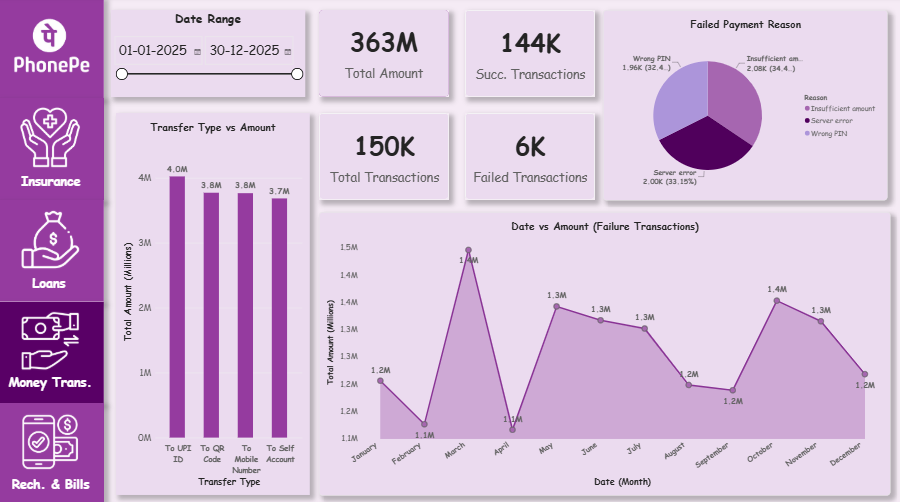

Layout of this report page (visuals, bound fields, positions):
{"tool":"powerbi","page":{"name":"Money Transfer","canvas":[1920,1080],"ordinal":3},"visuals":[{"type":"group","id":"g1","title":"Group 1","box":[0,0,227.5,216],"z":0},{"type":"shape","box":[0,0,227.5,216],"z":0,"group":"g1"},{"type":"group","id":"g2","title":"Group 2","box":[0,215,227.5,217.5],"z":1000},{"type":"shape","box":[0,215,227.5,217.5],"z":1000,"group":"g2"},{"type":"shape","box":[0,432,227.5,216],"z":2000,"group":"g3"},{"type":"group","id":"g3","title":"Group 3","box":[0,432,227.5,216],"z":2000},{"type":"group","id":"g4","title":"Group 4","box":[0,649,227.5,216],"z":3000},{"type":"shape","box":[0,649,227.5,216],"z":3000,"group":"g4"},{"type":"shape","box":[0,862.5,227.5,215],"z":4000,"group":"g5"},{"type":"group","id":"g5","title":"Group 5","box":[0,862.5,227.5,215],"z":4000},{"type":"image","box":[22.5,27.5,185,160],"z":5000,"group":"g1"},{"type":"actionButton","box":[0,222.5,227.5,215],"z":5000},{"type":"image","box":[32.5,222.5,162.5,150],"z":6000,"group":"g2"},{"type":"actionButton","box":[0,432.5,227.5,215],"z":6000},{"type":"image","box":[37.5,447.5,155,135],"z":7000,"group":"g3"},{"type":"actionButton","box":[0,865,227.5,215],"z":7000},{"type":"actionButton","box":[0,0,227.5,215],"z":8000},{"type":"image","box":[35,663.5,157.5,135],"z":8000,"group":"g4"},{"type":"slicer","title":"Date Range","fields":{"Values":["All_Transactions.Date"]},"box":[242.5,27.5,412.5,185],"z":9000},{"type":"image","box":[32.5,877.5,162.5,135],"z":9000,"group":"g5"},{"type":"clusteredColumnChart","title":"Transfer Type vs Amount","fields":{"Category":["Money_Transfer.Transfer_Type"],"Y":["Sum(Money_Transfer.Amount)"]},"box":[253,246.6,412.4,812.1],"z":10000},{"type":"textbox","box":[37.5,372.5,152.5,47.5],"z":10000,"group":"g2"},{"type":"cardVisual","fields":{"Data":["Sum(Money_Transfer.Amount)"]},"box":[684.6,27.6,276.4,185],"z":11000},{"type":"textbox","box":[35,590,152.5,47.5],"z":11000,"group":"g3"},{"type":"cardVisual","fields":{"Data":["Count(Money_Transfer.Transaction_ID)"]},"box":[995,27.6,276.4,185],"z":12000},{"type":"textbox","box":[5,801,217.5,47.5],"z":12000,"group":"g4"},{"type":"cardVisual","fields":{"Data":["CountNonNull(Money_Transfer.Amount)"]},"box":[684.6,246.6,276.4,185],"z":13000},{"type":"textbox","box":[15,1015,197.5,45],"z":13000,"group":"g5"},{"type":"cardVisual","fields":{"Data":["CountNonNull(Money_Transfer.Amount)"]},"box":[995,246.6,276.4,185],"z":14000},{"type":"pieChart","title":"Failed Payment Reason","fields":{"Category":["Money_Transfer.Reason"],"Y":["CountNonNull(Money_Transfer.Transfer_Type)"]},"box":[1287.5,27.5,605,405],"z":15000},{"type":"lineChart","title":"Date vs Amount (Failure Transactions)","fields":{"Category":["Money_Transfer.Date.Variation.Date Hierarchy.Month"],"Y":["Sum(Money_Transfer.Amount)"]},"box":[685,457.5,1215,602.5],"z":16000}]}

Visuals, with their boxes in screenshot pixels (x1, y1, x2, y2), scaled from the page's 1920x1080 canvas onto the 900x502 screenshot:
"Group 1" group: select_region(0, 0, 107, 100)
shape: select_region(0, 0, 107, 100)
"Group 2" group: select_region(0, 100, 107, 201)
shape: select_region(0, 100, 107, 201)
shape: select_region(0, 201, 107, 301)
"Group 3" group: select_region(0, 201, 107, 301)
"Group 4" group: select_region(0, 302, 107, 402)
shape: select_region(0, 302, 107, 402)
shape: select_region(0, 401, 107, 501)
"Group 5" group: select_region(0, 401, 107, 501)
image: select_region(11, 13, 97, 87)
actionButton: select_region(0, 103, 107, 203)
image: select_region(15, 103, 91, 173)
actionButton: select_region(0, 201, 107, 301)
image: select_region(18, 208, 90, 271)
actionButton: select_region(0, 402, 107, 501)
actionButton: select_region(0, 0, 107, 100)
image: select_region(16, 308, 90, 371)
"Date Range" slicer: select_region(114, 13, 307, 99)
image: select_region(15, 408, 91, 471)
"Transfer Type vs Amount" clusteredColumnChart: select_region(119, 115, 312, 492)
textbox: select_region(18, 173, 89, 195)
cardVisual - Sum(Money_Transfer.Amount): select_region(321, 13, 450, 99)
textbox: select_region(16, 274, 88, 296)
cardVisual - Count(Money_Transfer.Transaction_ID): select_region(466, 13, 596, 99)
textbox: select_region(2, 372, 104, 394)
cardVisual - CountNonNull(Money_Transfer.Amount): select_region(321, 115, 450, 201)
textbox: select_region(7, 472, 100, 493)
cardVisual - CountNonNull(Money_Transfer.Amount): select_region(466, 115, 596, 201)
"Failed Payment Reason" pieChart: select_region(604, 13, 887, 201)
"Date vs Amount (Failure Transactions)" lineChart: select_region(321, 213, 891, 493)
